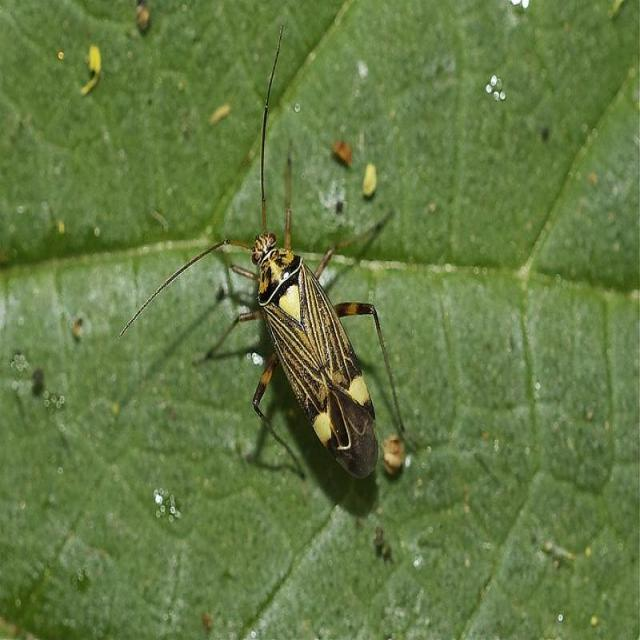Miridae-Adult-: (145, 20, 419, 487)
